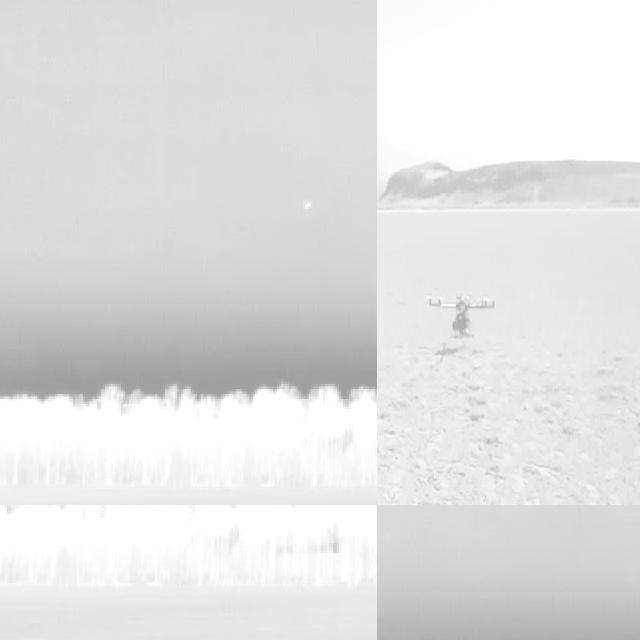1: (294, 190, 328, 226)
drone: (425, 288, 497, 347)
